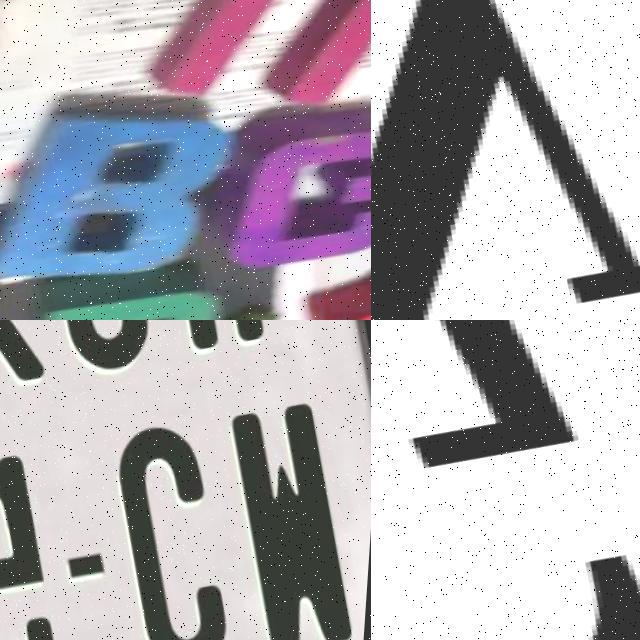B: (0, 66, 261, 306)
C: (101, 410, 253, 640)
G: (371, 320, 640, 640), (211, 75, 371, 283), (0, 444, 84, 640)
M: (218, 387, 370, 640)
N: (371, 0, 640, 320)
S: (15, 320, 170, 377)
U: (138, 0, 371, 129)
